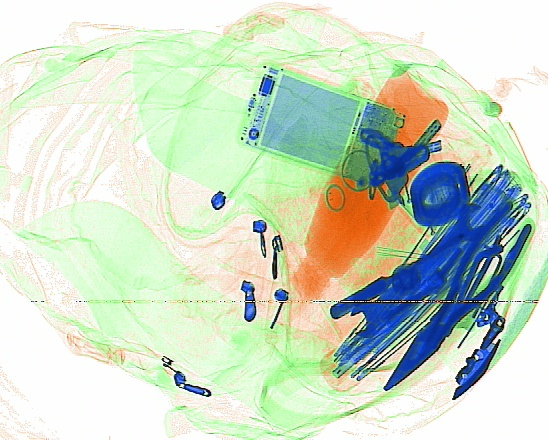banshou: (349, 201, 486, 340)
drinkbottle: (289, 66, 452, 304)
jianruigongju: (449, 231, 505, 329)
qianzi: (383, 199, 530, 390)
smallelectronicequipment: (234, 58, 408, 187)
umbrella: (317, 160, 533, 392)
